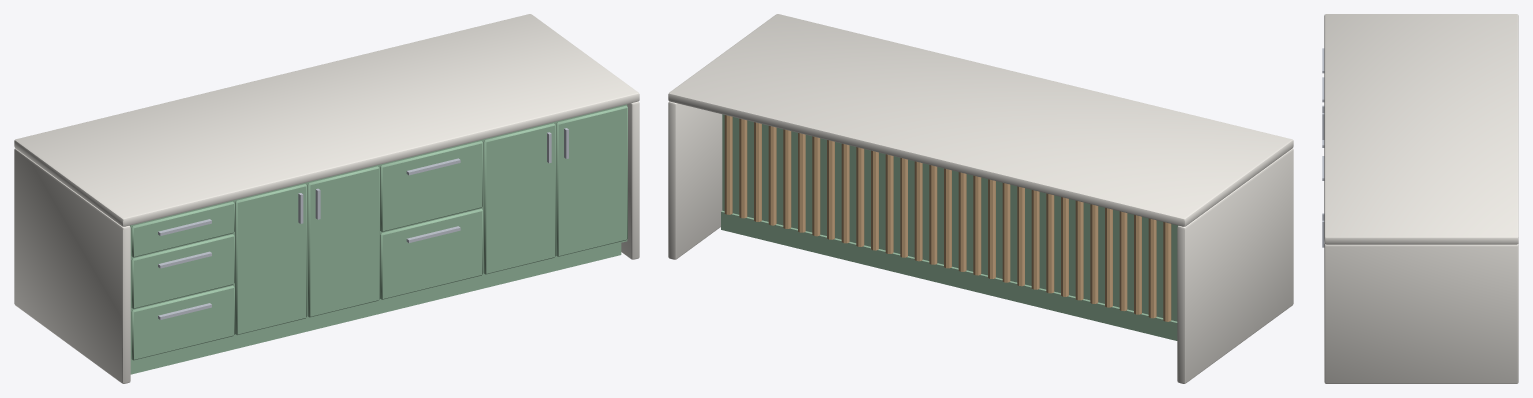
The model's file is kitchen_island.glb.
3 renders of one model, left to right at view 1: azimuth 30°, elevation 25°; view 2: azimuth 150°, elevation 25°; view 3: azimuth 270°, elevation 25°, orthographic. The views are drawn at different scales.
Parts seen in each view (by area): view 1: stone, cabinet, chrome; view 2: stone, cabinet, oak; view 3: stone, chrome.
Boxes of the visible parts, x1,y1,x2,y2 form: stone: (14,14,639,383); cabinet: (130,104,627,374); chrome: (158,128,568,319); stone: (668,14,1293,383); cabinet: (721,114,1177,340); oak: (724,115,1171,321); stone: (1324,14,1518,383); chrome: (1322,48,1324,247).
Size of the model in its own units: 3 by 0.92 by 1.11.
